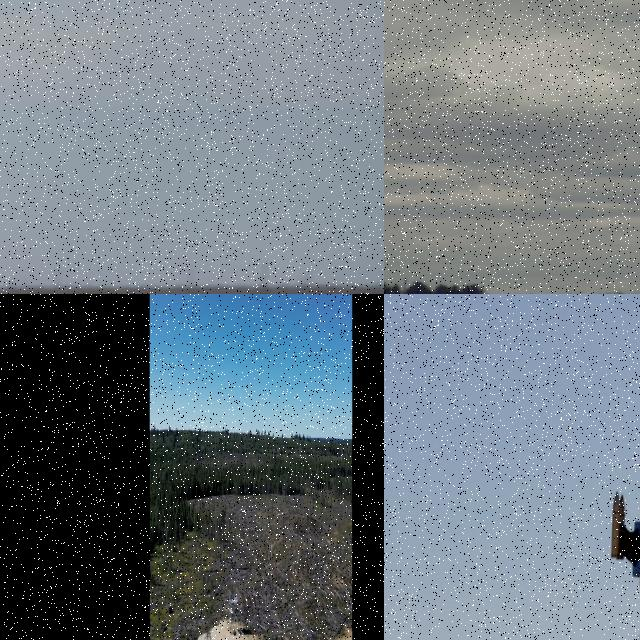Rocket: (607, 294, 640, 593), (401, 278, 409, 294)
